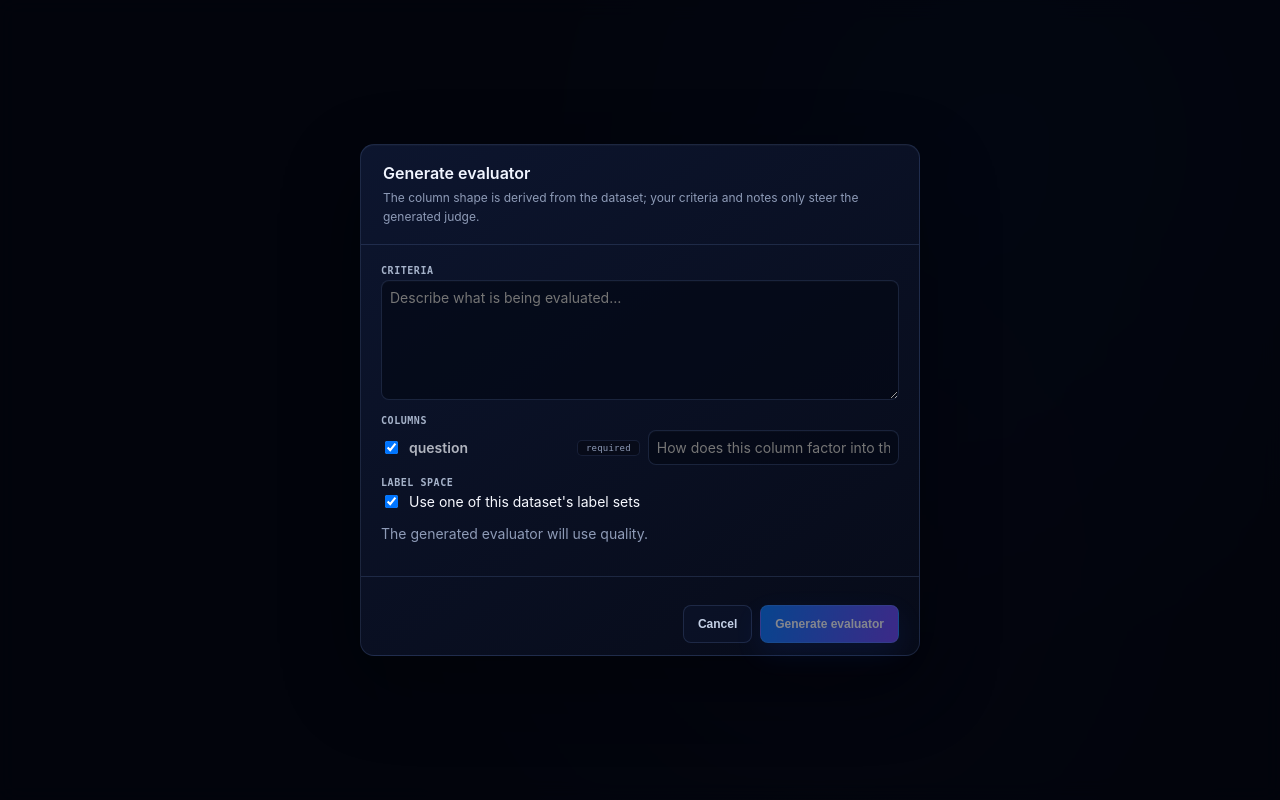
Test: EvaluatorFromDataset › blocks submission when every column is excluded
In the text box labelled "Criteria": [640, 340] box [381,280,899,400], type "grade it"
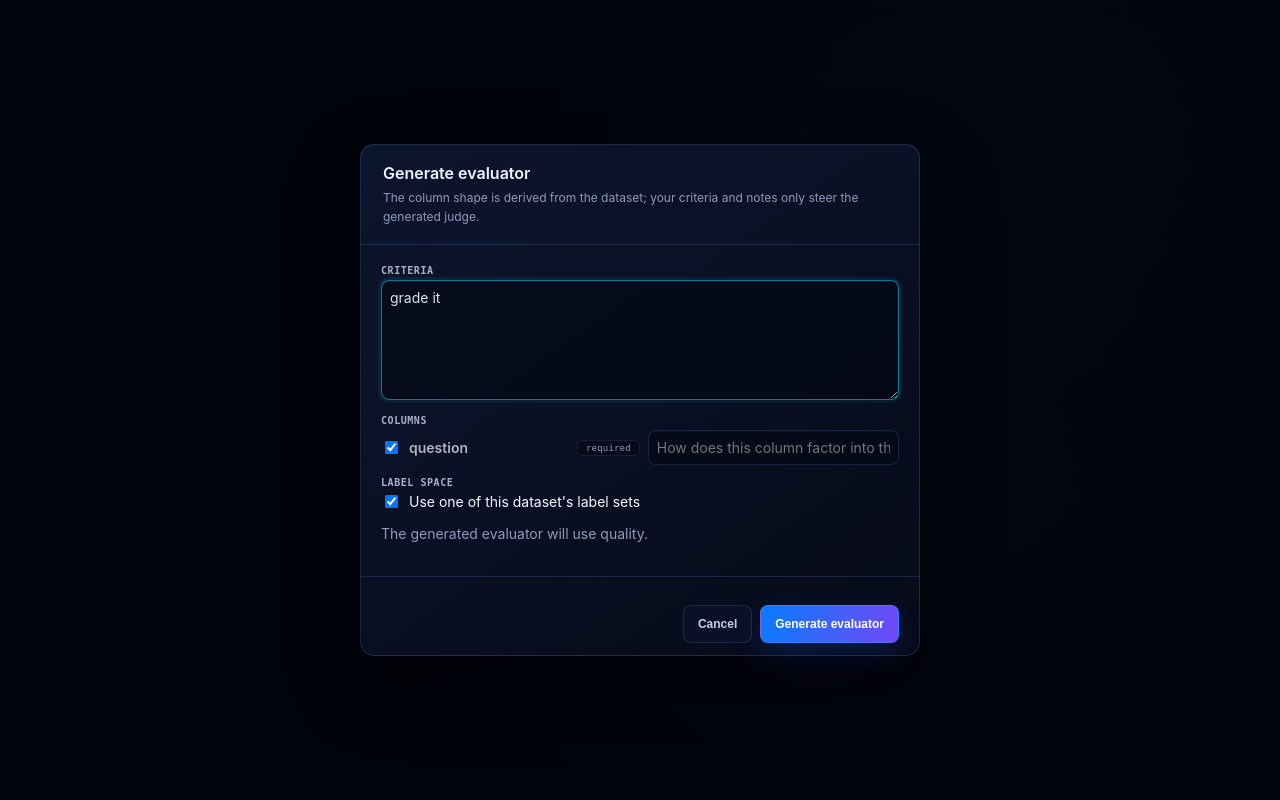
Click the checkbox named "Include question": [392, 448] box [385,441,398,454]
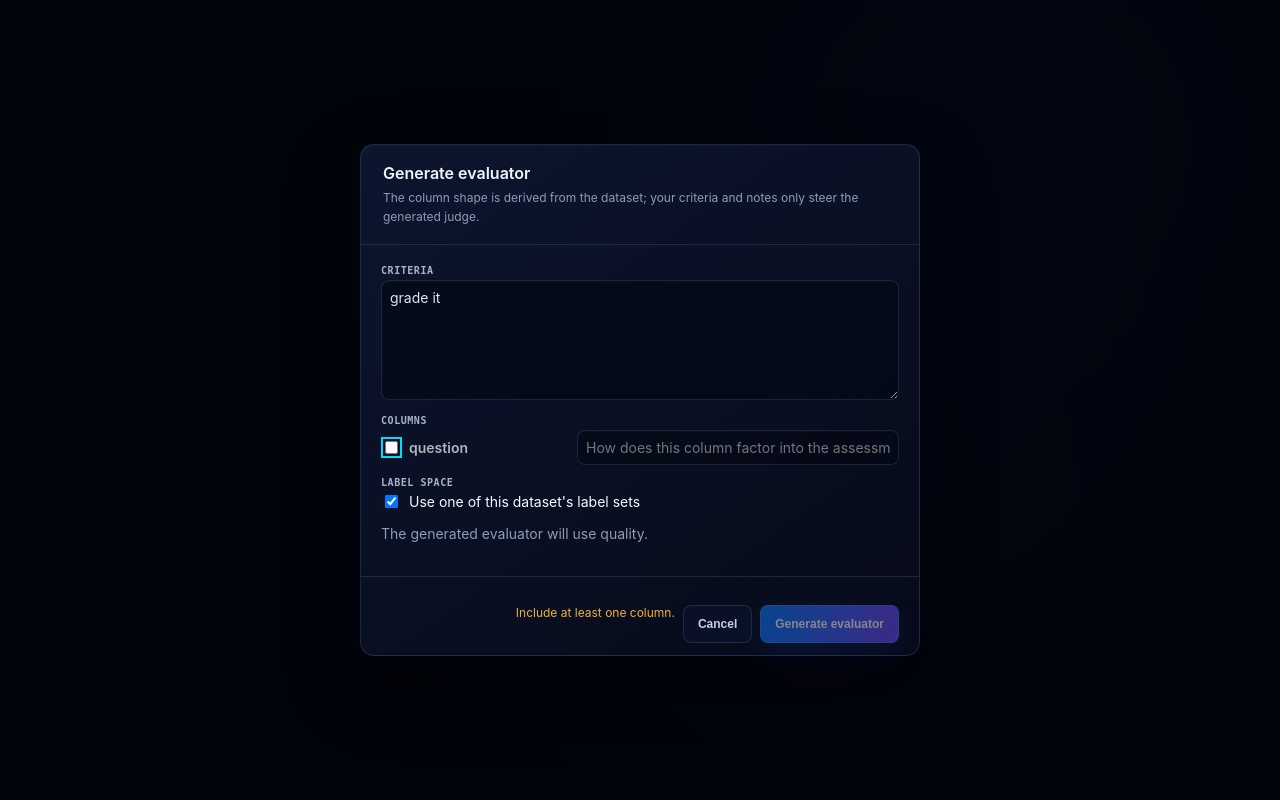
Result: the text "Include at least one column." is shown at [516,605,675,620]
Result: the button "Generate evaluator" is disabled at [760,605,899,643]
